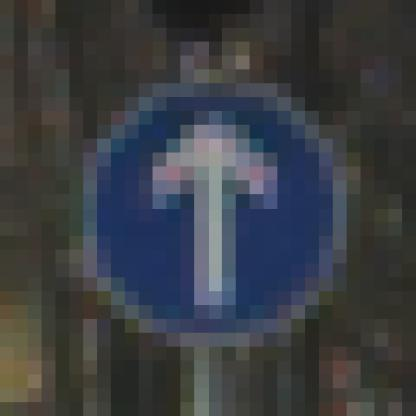AheadOnly: (70, 70, 348, 348)
